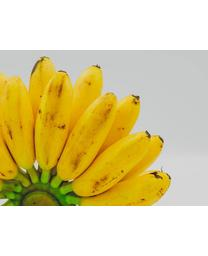banana: (0, 56, 168, 201)
